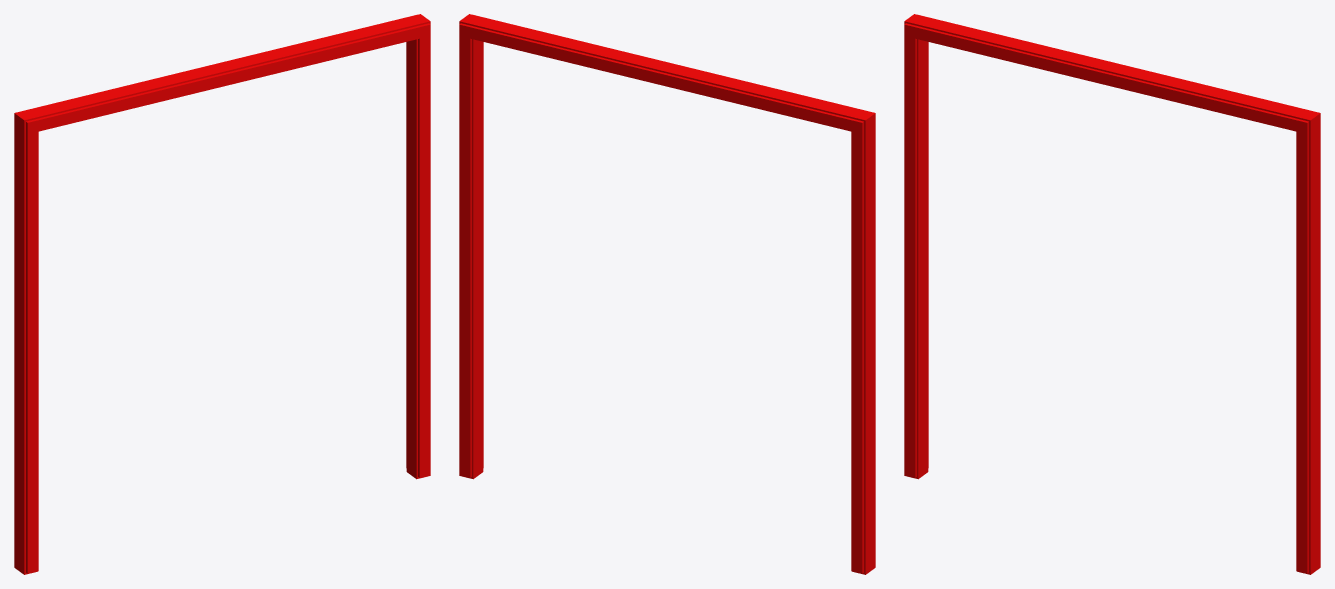
The model's file is doorway_double_8.glb.
3 renders of one model, left to right at view 1: azimuth 30°, elevation 25°; view 2: azimuth 150°, elevation 25°; view 3: azimuth 330°, elevation 25°, orthographic.
Parts seen in each view (by area): view 1: doorway_double_8; view 2: doorway_double_8; view 3: doorway_double_8.
Boxes of the visible parts, left/top/right/bottom form: doorway_double_8: left=14, top=14, right=430, bottom=574; doorway_double_8: left=459, top=14, right=875, bottom=574; doorway_double_8: left=904, top=14, right=1320, bottom=574.
Size of the model in its own units: 1.96 by 2.1 by 0.1126.
